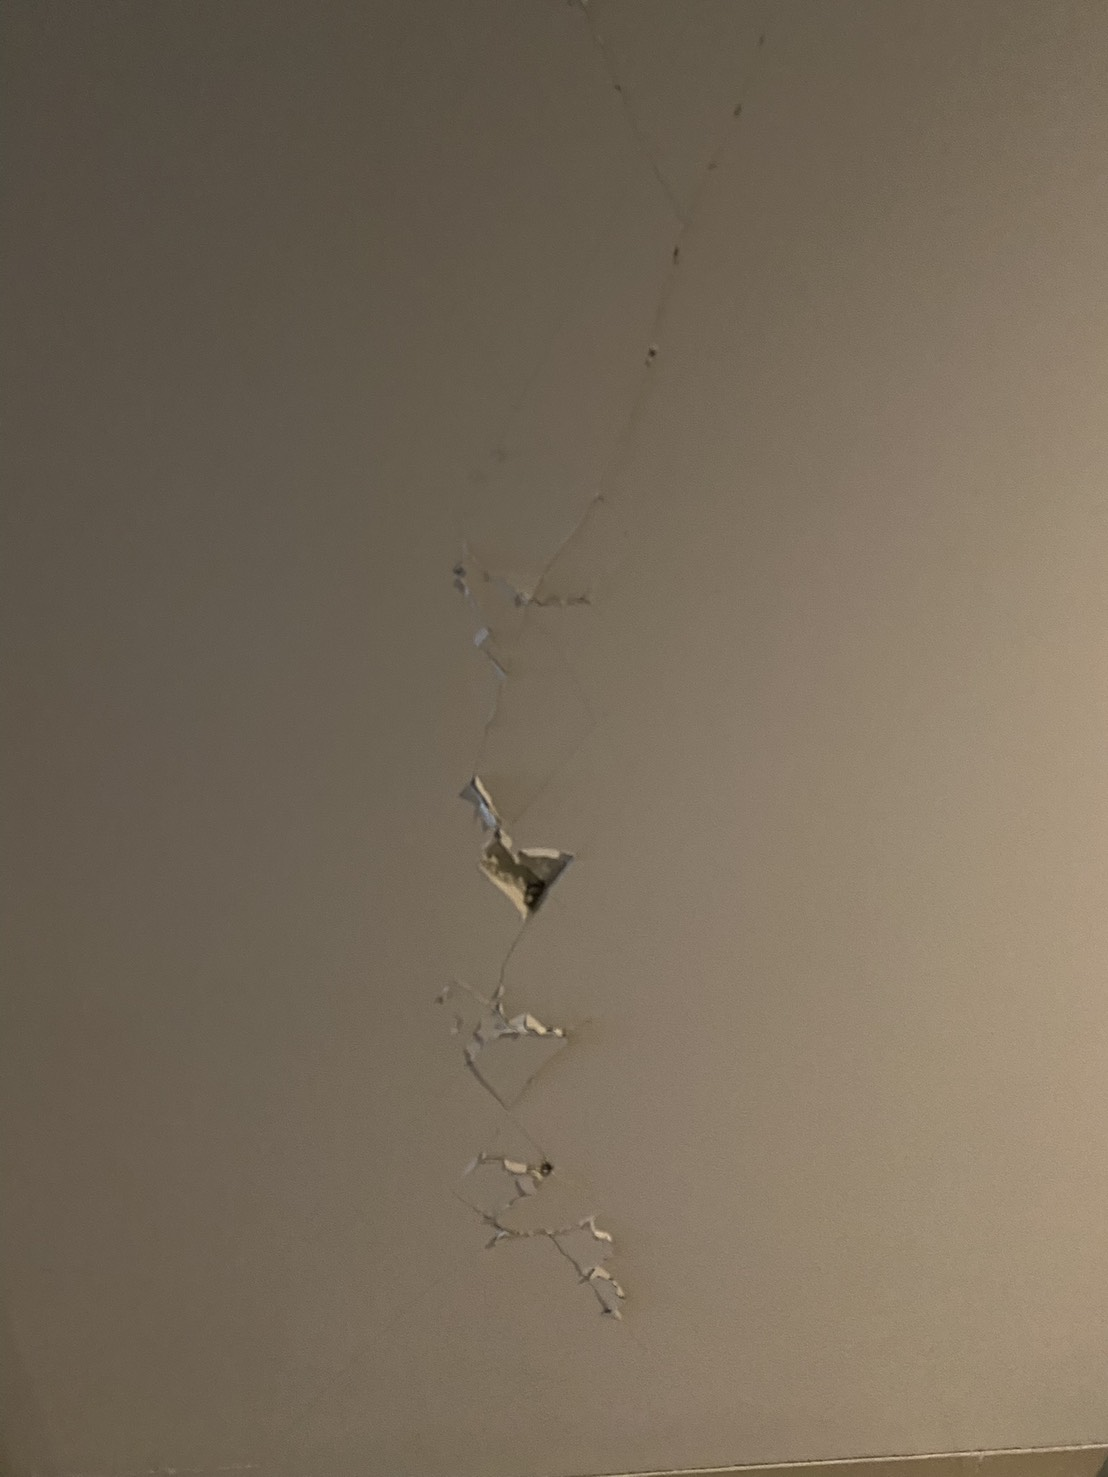Low: (446, 1, 885, 1335)
